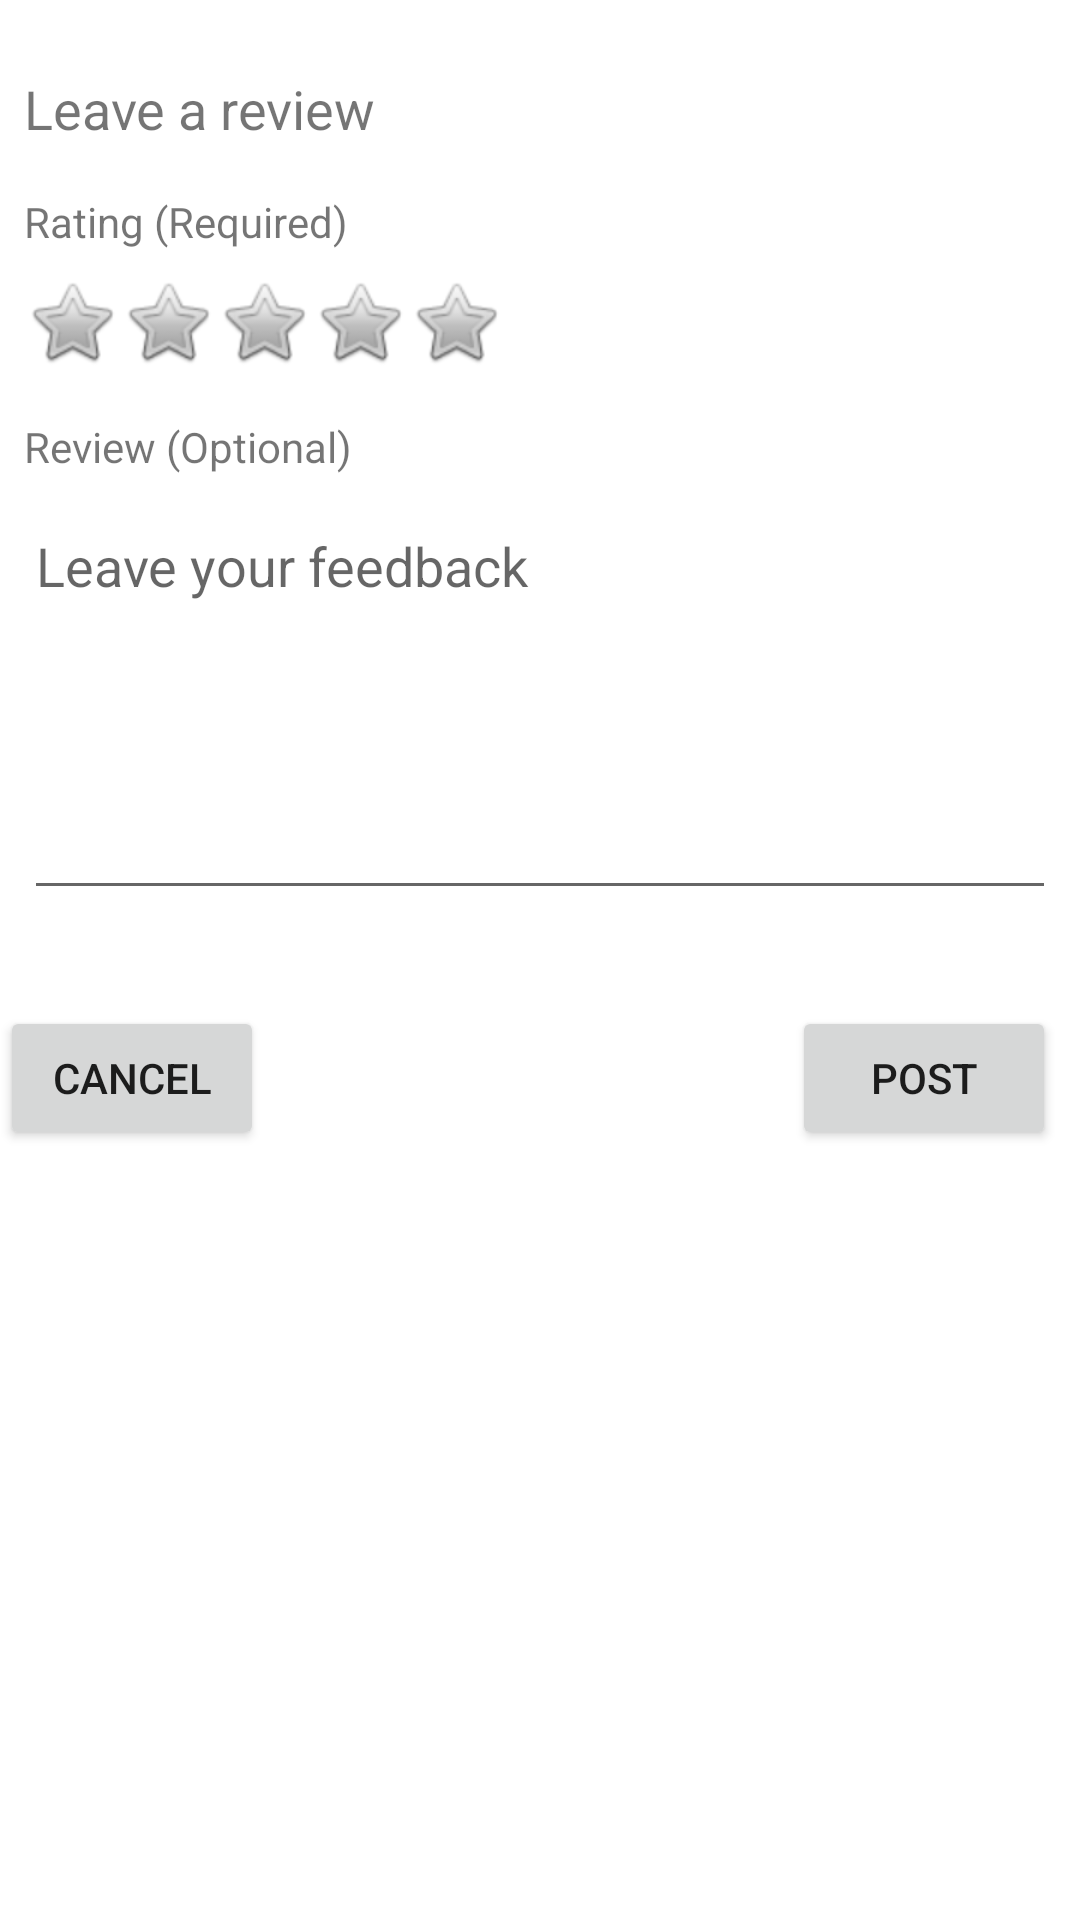

Named icons in this screenshot (1080*1920) and their bounding boxes, (x1, y1, x2, y2):
star off: (33, 284, 113, 362), (129, 284, 209, 362), (225, 284, 305, 362), (321, 284, 401, 362), (417, 284, 497, 362)
